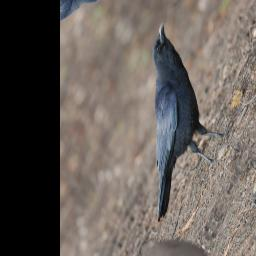Crow: (97, 19, 247, 242)
